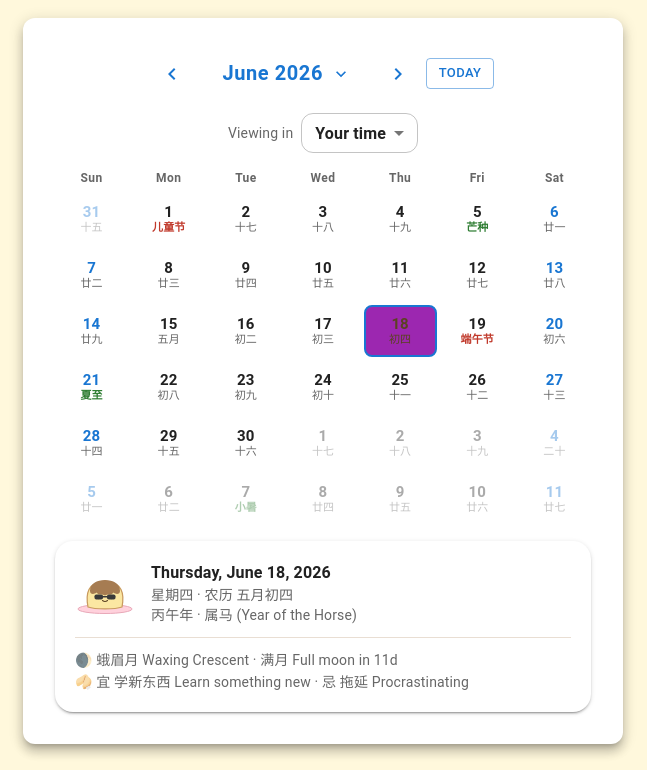
Calendar › navigates between months and back to today
Click the button named "Previous month" at (172, 74), box x1=152 y1=54 x2=192 y2=94
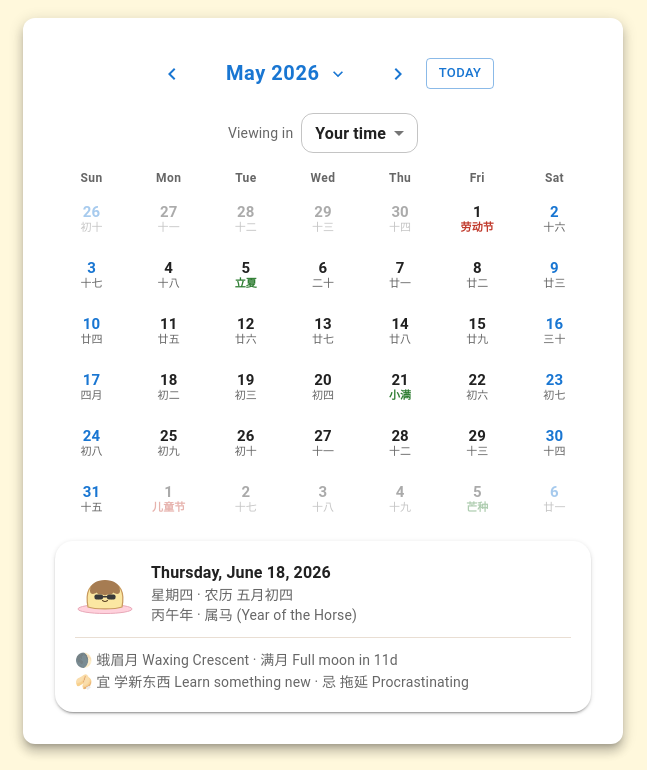
Check: the button "May 2026" is shown, box x1=200 y1=50 x2=370 y2=97
Click the button named "Next month" at (398, 74), box x1=378 y1=54 x2=418 y2=94
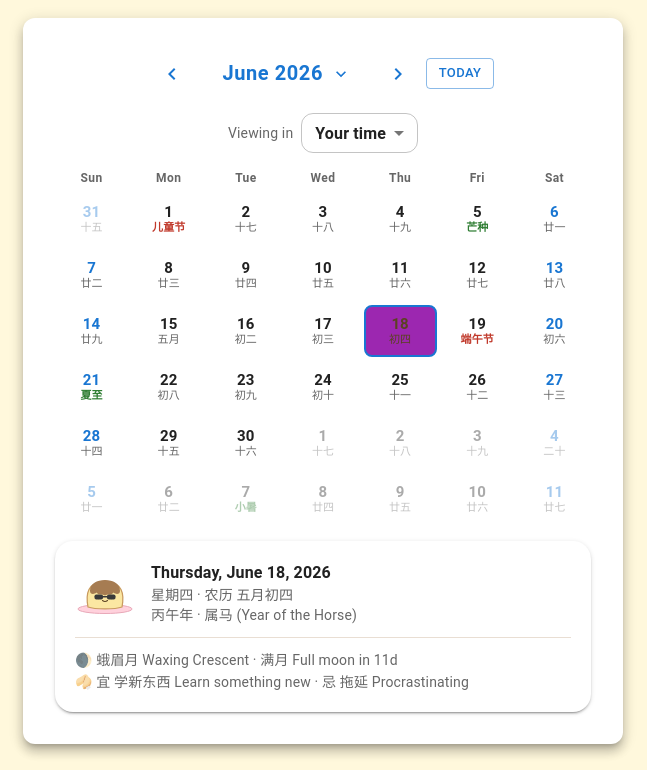
Click the button named "Next month" at (398, 74), box x1=378 y1=54 x2=418 y2=94
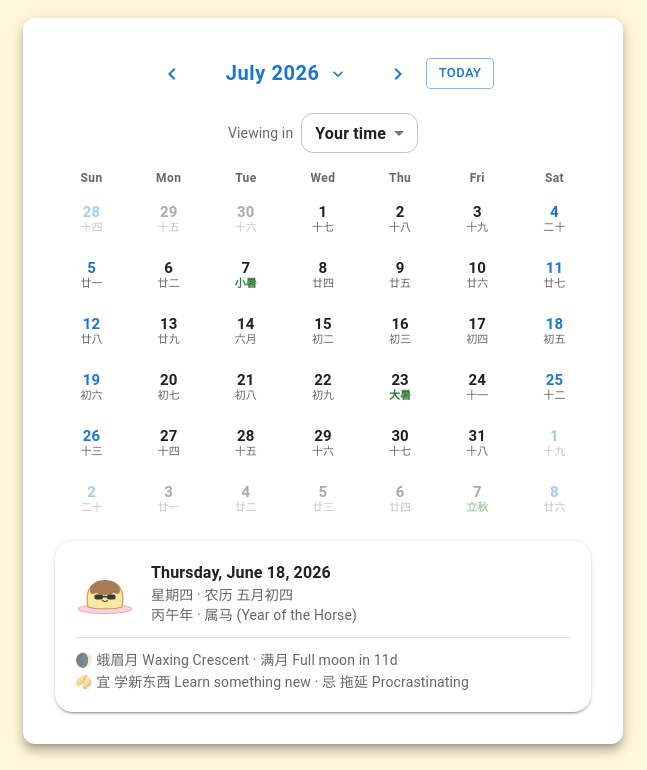
Check: the button "July 2026" is shown, box x1=200 y1=50 x2=370 y2=97
Click the button "Today" at (460, 74), box x1=426 y1=58 x2=494 y2=89
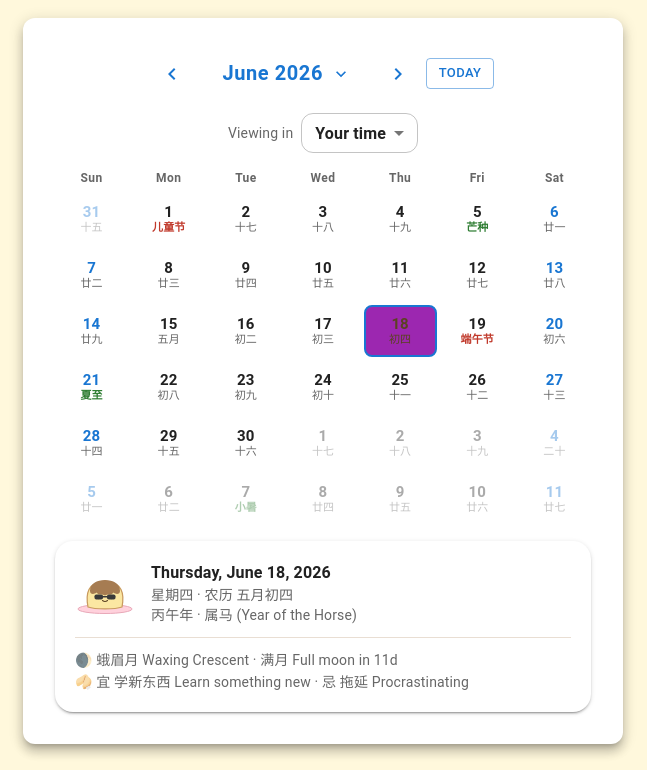
Check: the button "June 2026" is shown, box x1=200 y1=50 x2=370 y2=97
